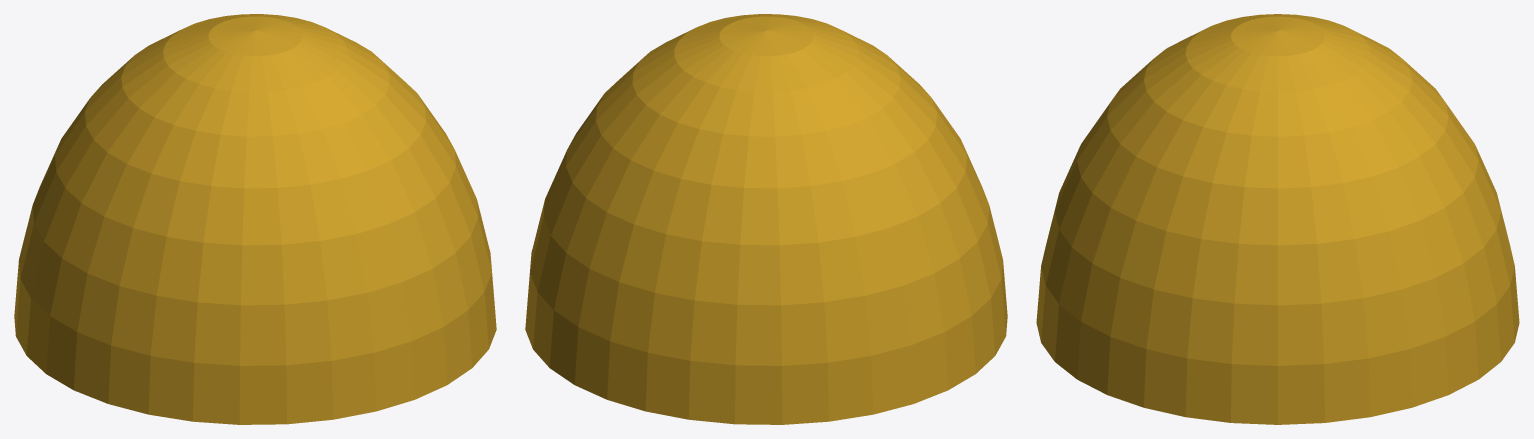
Rendered from SM_WheatSpheres.fbx.
3 renders of one model, left to right at view 1: azimuth 30°, elevation 25°; view 2: azimuth 150°, elevation 25°; view 3: azimuth 270°, elevation 25°, orthographic.
Visible parts, largest first — view 1: Sphere.034; view 2: Sphere.034; view 3: Sphere.034.
Boxes of the visible parts, left/top/right/bottom form: Sphere.034: left=14, top=14, right=496, bottom=424; Sphere.034: left=525, top=14, right=1007, bottom=424; Sphere.034: left=1036, top=14, right=1519, bottom=424.
Bounding box in the file's own units: 745 × 497 × 745.
